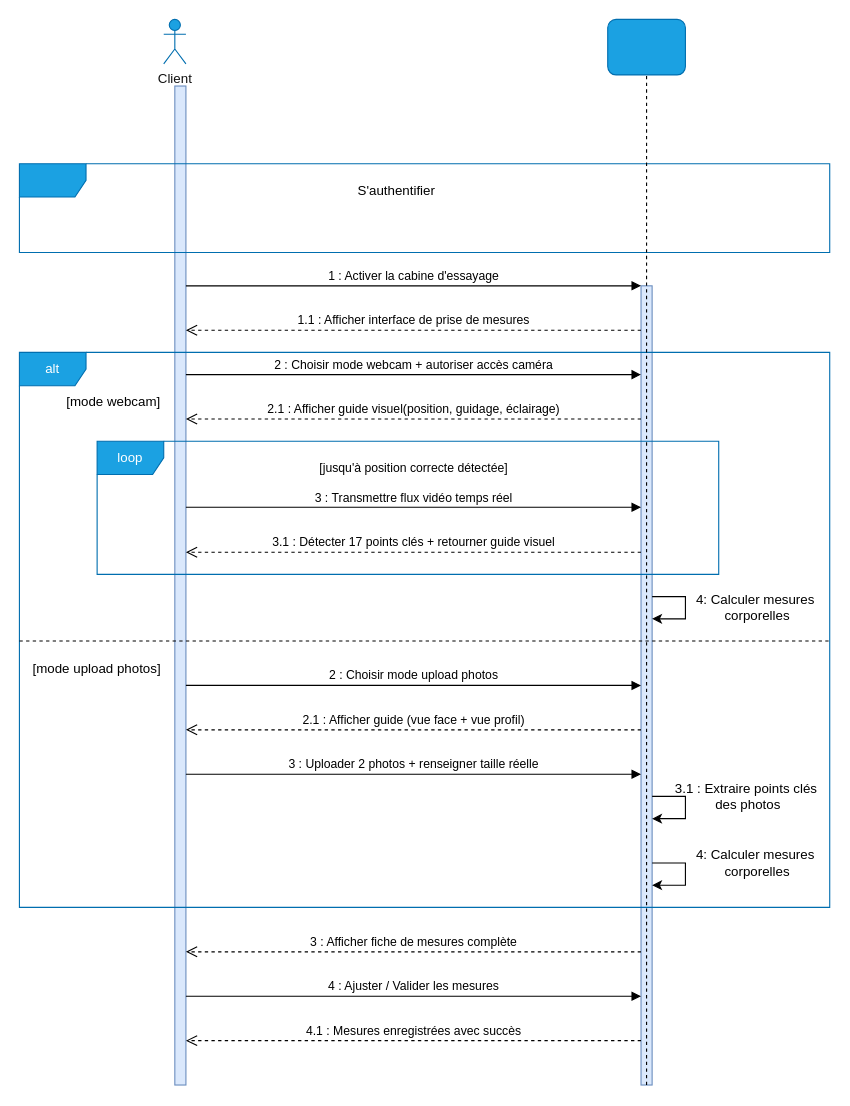
Image size: 850x1106. Some labels were removed from this diagram. Each missing label, with the centre of its shape:
"FITMOD" goes at [646,46].
"ref" goes at [424,208].
